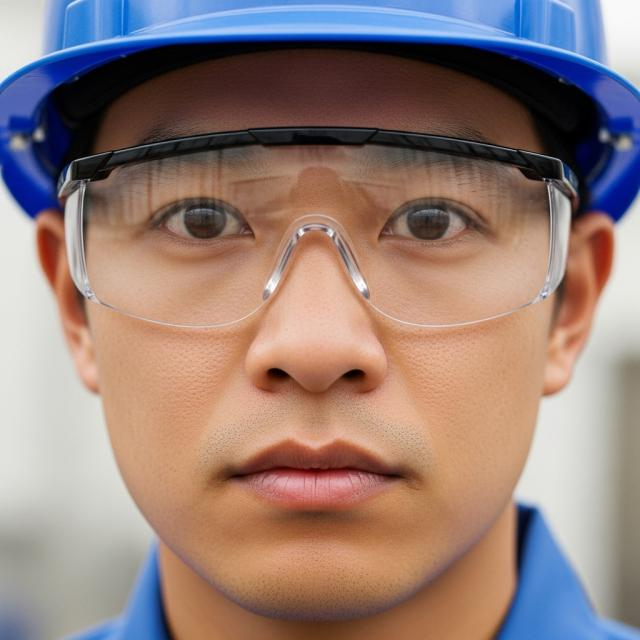oculos-epi: (59, 128, 575, 327)
